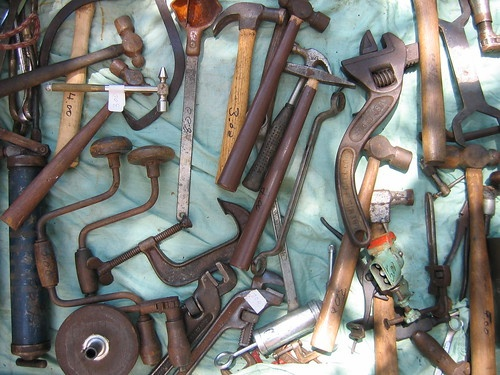hammer: (428, 144, 498, 374), (212, 3, 285, 187), (1, 15, 145, 103)
